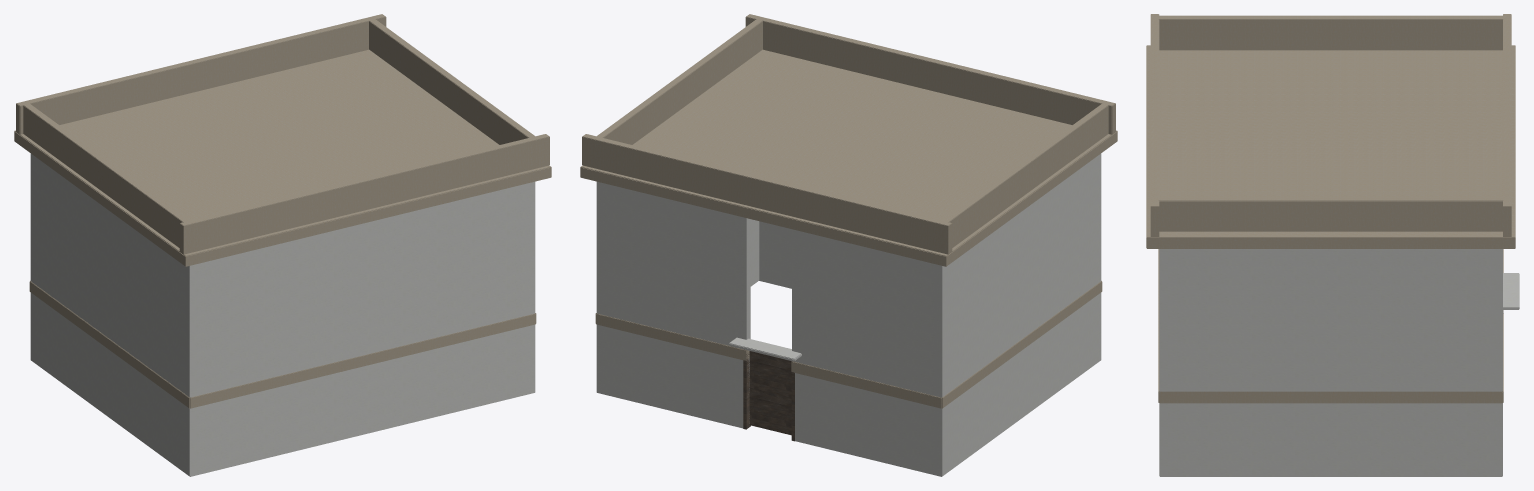
The model's file is house_shell.glb.
3 views of the same model, side by side, from view 1: azimuth 30°, elevation 25°; view 2: azimuth 150°, elevation 25°; view 3: azimuth 270°, elevation 25° (orthographic). The views are drawn at different scales.
Visible parts, largest first — view 1: house_shell; view 2: house_shell; view 3: house_shell.
Boxes of the visible parts, bbox=[...] form: house_shell: bbox=[14, 14, 551, 476]; house_shell: bbox=[580, 14, 1117, 476]; house_shell: bbox=[1146, 14, 1519, 476].
Bounding box in the file's own units: 10.6 × 7.1 × 8.69.
3 materials, 3 textured.
